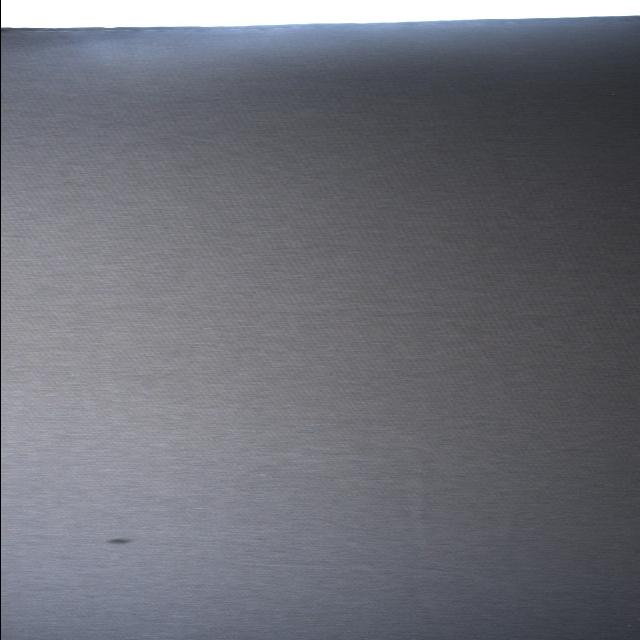crease: (1, 99, 234, 145), (474, 421, 633, 467), (199, 149, 356, 193), (399, 455, 443, 561), (213, 558, 458, 574)
